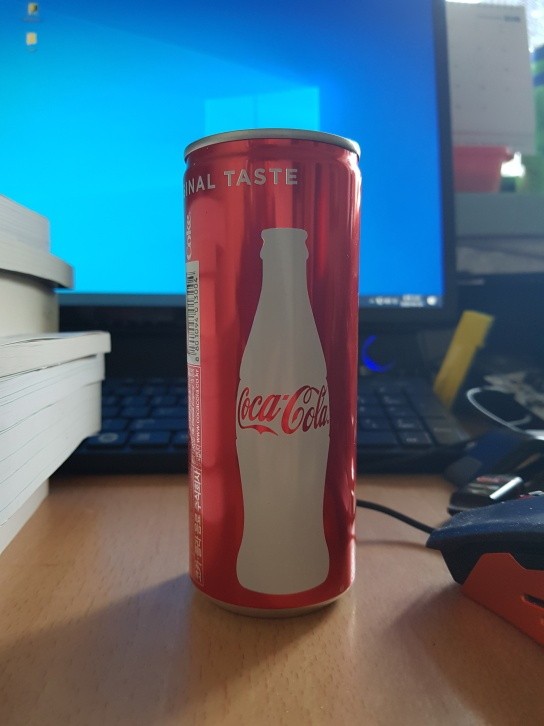Can: (179, 127, 365, 627)
